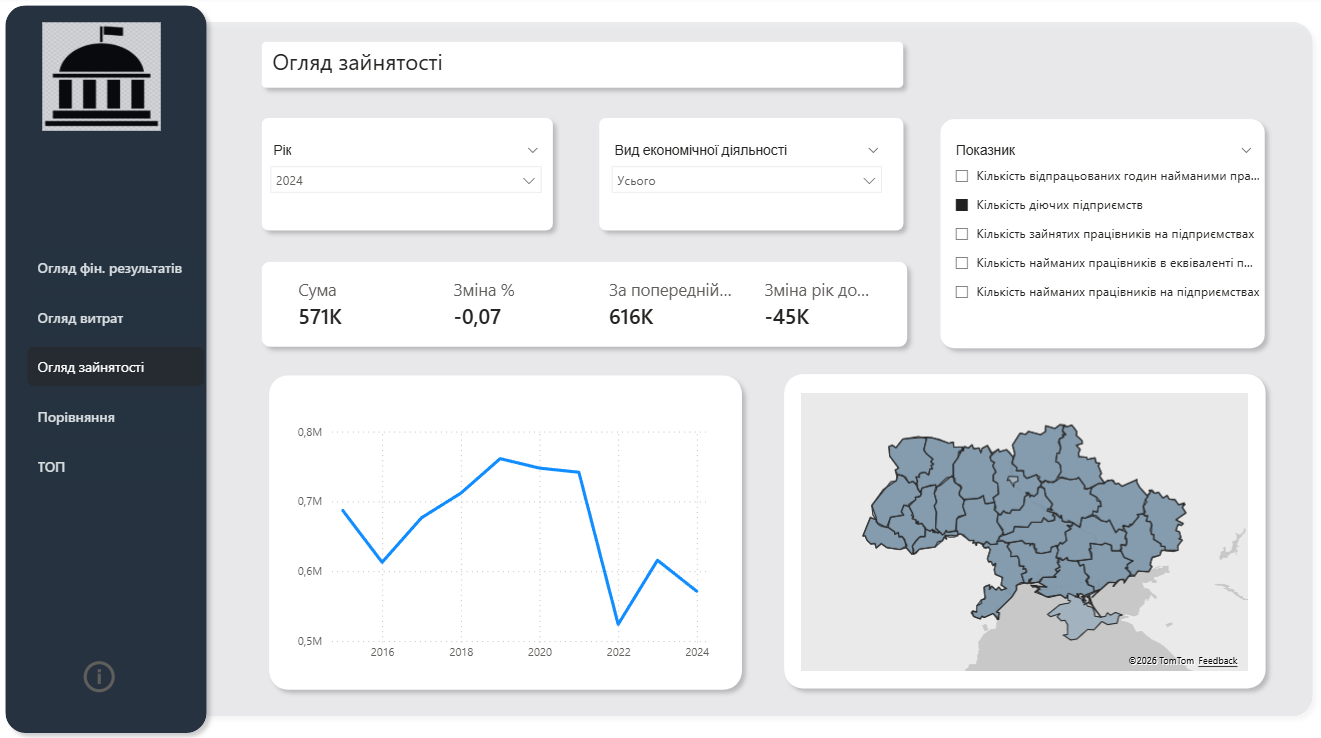

Layout of this report page (visuals, bound fields, positions):
{"tool":"powerbi","page":{"name":"Огляд зайнятості","canvas":[1280,720],"ordinal":2},"visuals":[{"type":"group","id":"g1","title":"Основа","box":[0,0,1280,720.2],"z":0},{"type":"shape","box":[0,15.3,1280,688.7],"z":0,"group":"g1"},{"type":"shape","box":[247.7,34.8,637.2,62.6],"z":0,"group":"g8"},{"type":"shape","box":[247.7,108.5,299.1,126.6],"z":0,"group":"g7"},{"type":"shape","box":[573.2,108.5,311.7,126.6],"z":0,"group":"g6"},{"type":"shape","box":[903,109.9,331.1,239.1],"z":0,"group":"g5"},{"type":"shape","box":[247.7,247.7,641,100.2],"z":0,"group":"g4"},{"type":"shape","box":[751.3,356.2,482.8,321.4],"z":0,"group":"g2"},{"type":"shape","box":[254.6,357.6,474.4,321.4],"z":0,"group":"g3"},{"type":"shape","box":[0,0,212.3,720.2],"z":1000,"group":"g1"},{"type":"textbox","box":[261.6,43.1,175.3,45.9],"z":1000,"group":"g8"},{"type":"slicer","fields":{"Values":["Dim_Activity.Вид економічної діяльності"]},"box":[583.5,136,280.9,80.7],"z":1000,"group":"g6"},{"type":"slicer","fields":{"Values":["Fact_Employment.Показник"]},"box":[914.2,136.2,311.7,220.6],"z":1000,"group":"g5"},{"type":"slicer","fields":{"Values":["Dim_Date.Рік"]},"box":[254.5,136.5,281.8,80.7],"z":1000,"group":"g7"},{"type":"cardVisual","fields":{"Data":["Fact_Employment.EMP Значення","Fact_Employment.EMP % Зміна YoY","Fact_Employment.EMP Значення PY","Fact_Employment.EMP Зміна YoY"]},"box":[267,251,626.3,91.8],"z":1000,"group":"g4"},{"type":"azureMap","fields":{"Category":["Dim_Region.Область"]},"box":[772.2,378.6,441,277.8],"z":1000,"group":"g2"},{"type":"lineChart","fields":{"Category":["Dim_Date.Рік"],"Y":["Fact_Employment.EMP Значення"]},"box":[286.2,406.7,407.7,244.2],"z":1000,"group":"g3"},{"type":"actionButton","box":[80,637.1,45.7,40],"z":2000,"group":"g1"},{"type":"pageNavigator","box":[30.7,242.9,171.9,234.4],"z":3000,"group":"g1"},{"type":"image","box":[44.9,25.3,114.6,105],"z":4000,"group":"g1"},{"type":"group","id":"g2","title":"Карта","box":[751.3,356.2,482.8,321.4],"z":4000},{"type":"group","id":"g3","title":"Графік","box":[254.6,357.6,474.4,321.4],"z":5000},{"type":"group","id":"g4","title":"KPI","box":[247.7,247.7,645.6,100.2],"z":6000},{"type":"group","id":"g5","title":"Показник","box":[903,109.9,331.1,247.7],"z":6125},{"type":"group","id":"g6","title":"Вид діяльності","box":[573.2,108.5,311.7,126.6],"z":6250},{"type":"group","id":"g7","title":"Рік","box":[247.7,108.5,299.1,126.6],"z":6500},{"type":"group","id":"g8","title":"Заголовок","box":[247.7,34.8,637.2,62.6],"z":7000}]}

Visuals, with their boxes on the page's 1280x720 design canvas (x1, y1, x2, y2). These are canvas units, not pixel positions in the 1321x738 screenshot, which may show the page scaled, cropped or inside an application window:
"Основа" group: 0,0,1280,720
shape: 0,15,1280,704
shape: 248,35,885,97
shape: 248,108,547,235
shape: 573,108,885,235
shape: 903,110,1234,349
shape: 248,248,889,348
shape: 751,356,1234,678
shape: 255,358,729,679
shape: 0,0,212,720
textbox: 262,43,437,89
slicer - Dim_Activity.Вид економічної діяльності: 584,136,864,217
slicer - Fact_Employment.Показник: 914,136,1226,357
slicer - Dim_Date.Рік: 254,136,536,217
cardVisual - Fact_Employment.EMP Значення x Fact_Employment.EMP % Зміна YoY: 267,251,893,343
azureMap - Dim_Region.Область: 772,379,1213,656
lineChart - Dim_Date.Рік x Fact_Employment.EMP Значення: 286,407,694,651
actionButton: 80,637,126,677
pageNavigator: 31,243,203,477
image: 45,25,160,130
"Карта" group: 751,356,1234,678
"Графік" group: 255,358,729,679
"KPI" group: 248,248,893,348
"Показник" group: 903,110,1234,358
"Вид діяльності" group: 573,108,885,235
"Рік" group: 248,108,547,235
"Заголовок" group: 248,35,885,97
